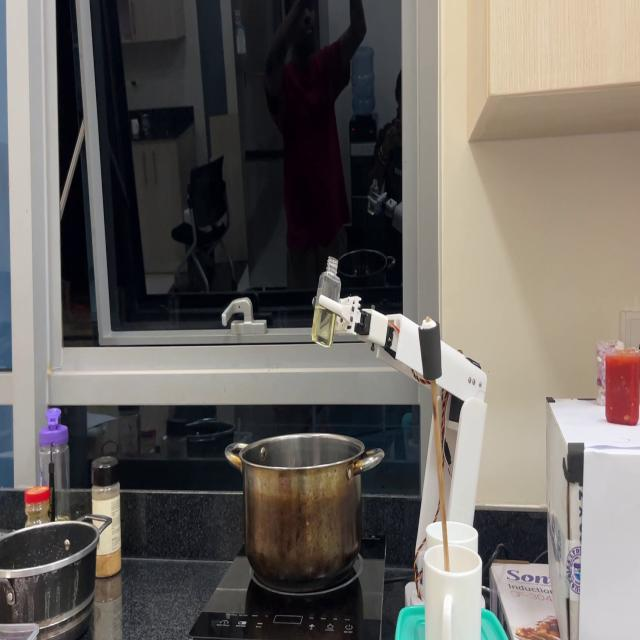blended_tomatoes_pepper: (605, 352, 640, 427)
cooking_pot: (224, 433, 385, 590), (0, 514, 113, 637)
oil: (312, 300, 336, 348)
sliced_onions: (595, 338, 615, 405)
spatula: (418, 314, 451, 573)
